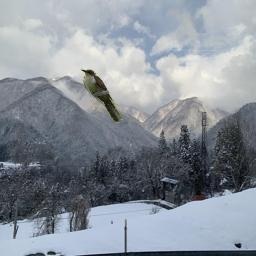Cuckoo: (80, 68, 122, 123)
